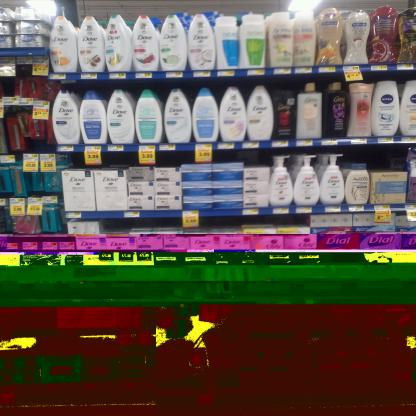Void: (215, 150, 274, 168), (356, 149, 400, 170), (109, 154, 140, 166)
